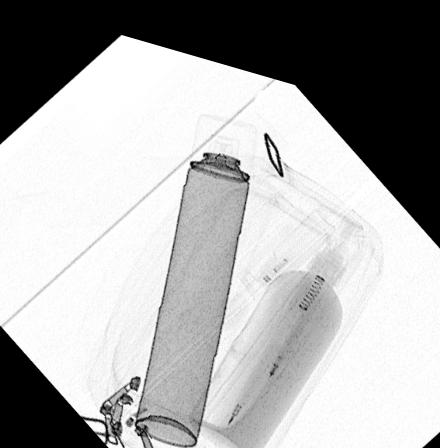Sprayer: (134, 98, 256, 437)
